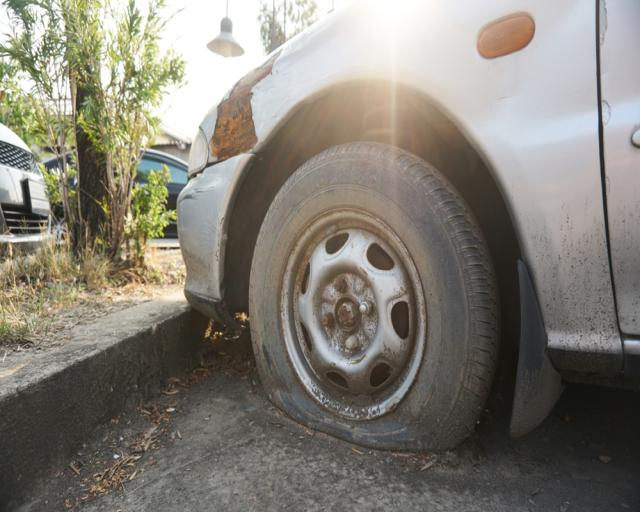tire flat: (250, 138, 501, 451)
